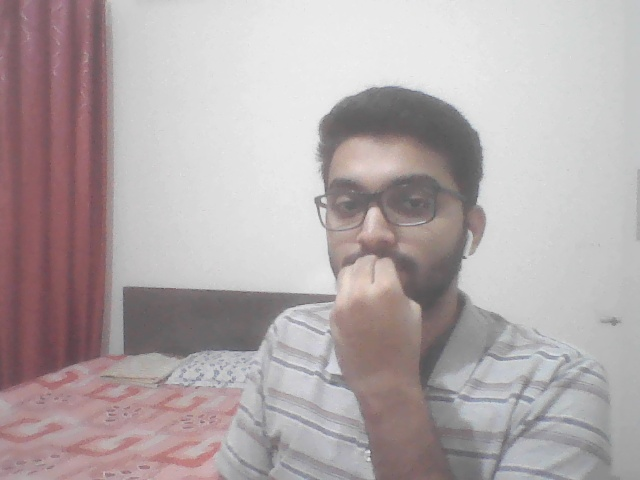eat: (311, 250, 436, 432)
